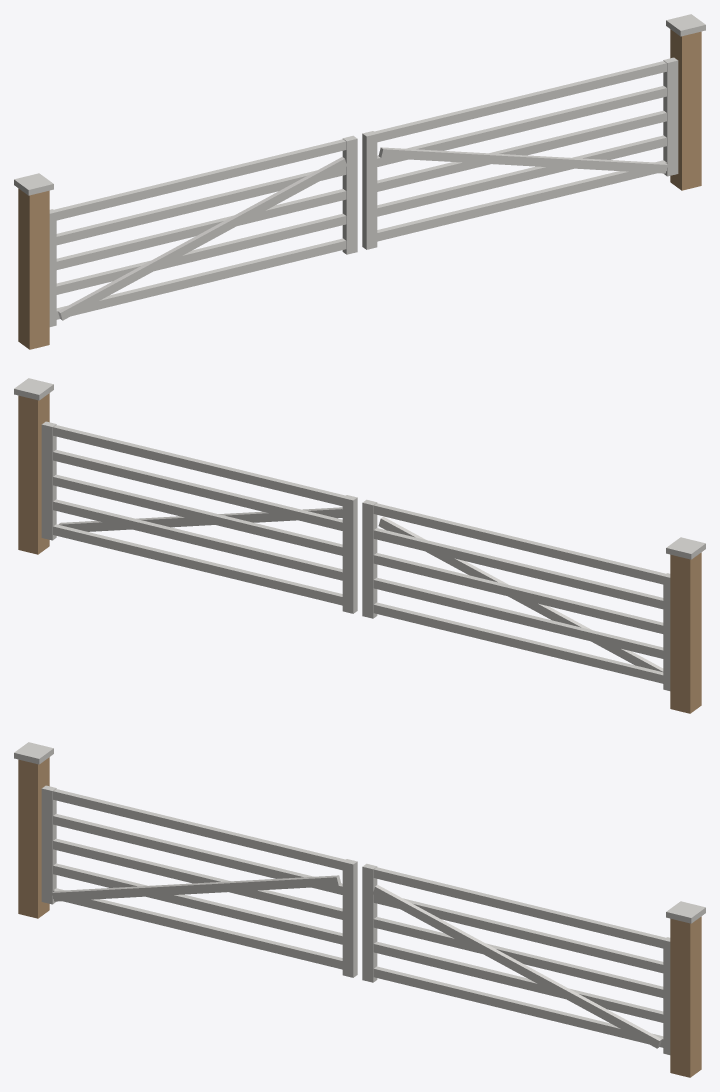
The model's file is gate.glb.
3 renders of one model, top to bottom at view 1: azimuth 30°, elevation 25°; view 2: azimuth 150°, elevation 25°; view 3: azimuth 330°, elevation 25°, orthographic.
Visible parts, largest first — view 1: leaf_L_bars, leaf_R_bars, post_poles, leaf_R_brace, leaf_L_stiles, leaf_L_brace, leaf_R_stiles, post_caps; view 2: leaf_L_bars, leaf_R_bars, post_poles, leaf_L_stiles, leaf_R_stiles, leaf_R_brace, leaf_L_brace, post_caps; view 3: leaf_R_bars, leaf_L_bars, post_poles, leaf_L_brace, leaf_R_stiles, leaf_R_brace, leaf_L_stiles, post_caps.
Part boxes in pixels (x1,y1,x2,y2): leaf_L_bars: [363, 61, 666, 242]; leaf_R_bars: [54, 139, 346, 319]; post_poles: [18, 29, 701, 349]; leaf_R_brace: [58, 157, 346, 320]; leaf_L_stiles: [362, 57, 678, 249]; leaf_L_brace: [378, 147, 667, 173]; leaf_R_stiles: [49, 135, 357, 326]; post_caps: [14, 14, 705, 195]; leaf_L_bars: [53, 425, 356, 606]; leaf_R_bars: [373, 503, 665, 683]; post_poles: [18, 393, 701, 713]; leaf_L_stiles: [41, 421, 357, 613]; leaf_R_stiles: [362, 499, 670, 690]; leaf_R_brace: [378, 516, 663, 671]; leaf_L_brace: [58, 507, 342, 531]; post_caps: [14, 378, 705, 559]; leaf_R_bars: [53, 789, 356, 970]; leaf_L_bars: [373, 867, 665, 1047]; post_poles: [18, 757, 701, 1077]; leaf_L_brace: [373, 885, 661, 1048]; leaf_R_stiles: [41, 785, 357, 977]; leaf_R_brace: [52, 875, 341, 901]; leaf_L_stiles: [362, 863, 670, 1054]; post_caps: [14, 742, 705, 923].
Size of the model in its own units: 7.5 by 1.71 by 0.28.
